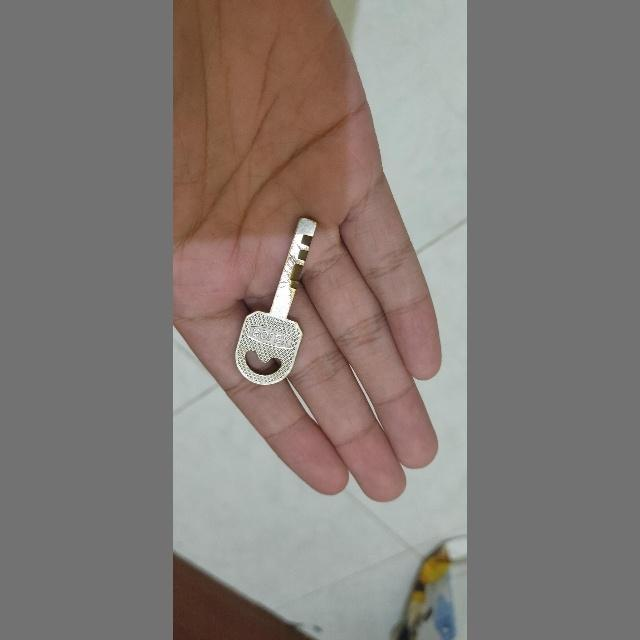Keys: (228, 208, 332, 400)
